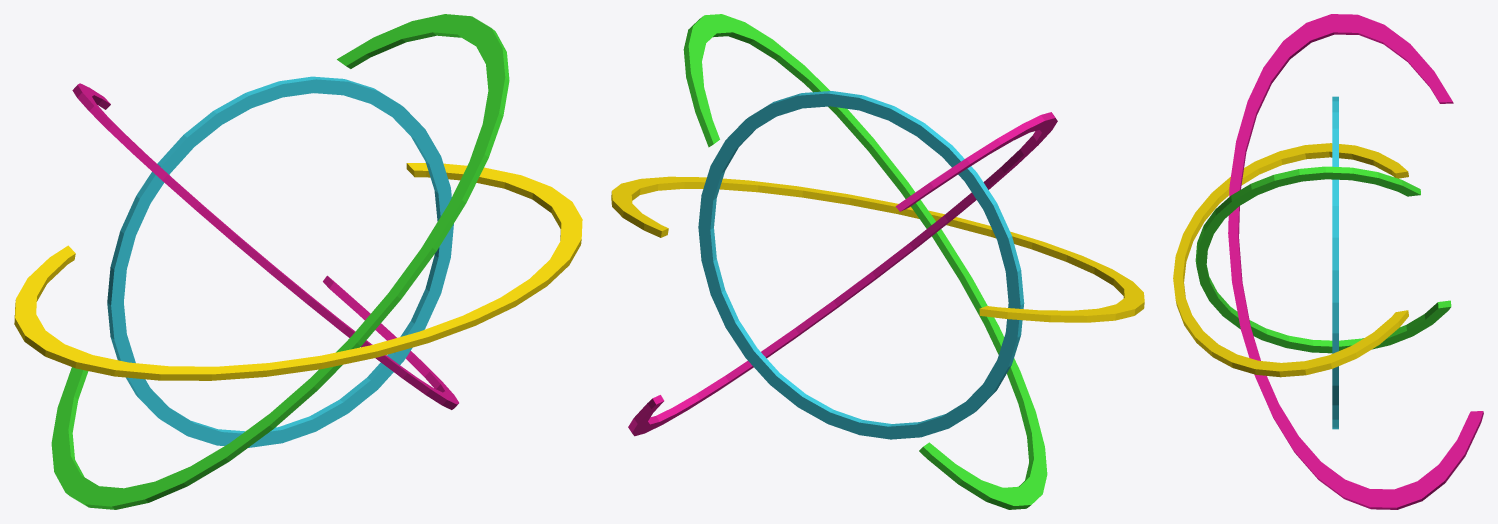
The model's file is PlanetDecor.fbx.
The picture shows the model from 3 angles, left to right: view 1: azimuth 30°, elevation 25°; view 2: azimuth 150°, elevation 25°; view 3: azimuth 270°, elevation 25°; orthographic projection. The views are drawn at different scales.
Visible parts, largest first — view 1: Circle.003, Circle, Circle.001, Circle.002; view 2: Circle, Circle.003, Circle.001, Circle.002; view 3: Circle.002, Circle.001, Circle.003, Circle.
Boxes of the visible parts, left/top/right/bottom form: Circle.003: left=51, top=14, right=509, bottom=509; Circle: left=107, top=76, right=453, bottom=447; Circle.001: left=14, top=163, right=582, bottom=380; Circle.002: left=72, top=83, right=458, bottom=409; Circle: left=698, top=91, right=1024, bottom=439; Circle.003: left=683, top=14, right=1047, bottom=509; Circle.001: left=611, top=176, right=1144, bottom=322; Circle.002: left=628, top=112, right=1057, bottom=436; Circle.002: left=1228, top=14, right=1483, bottom=509; Circle.001: left=1173, top=143, right=1408, bottom=377; Circle.003: left=1195, top=166, right=1451, bottom=353; Circle: left=1332, top=96, right=1338, bottom=429.
Bounding box in the file's own units: 3.19 × 2.26 × 1.87.
